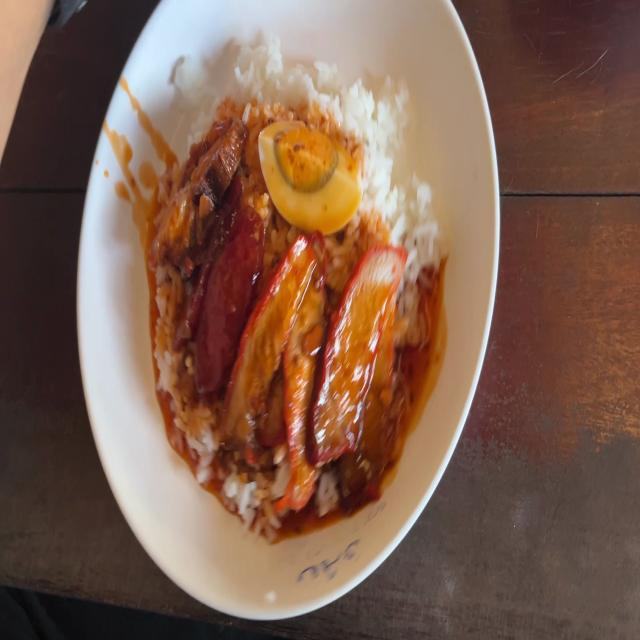red_pork_and_crispy_pork: (261, 114, 365, 210)
stir_fried_basil: (186, 185, 252, 388)
